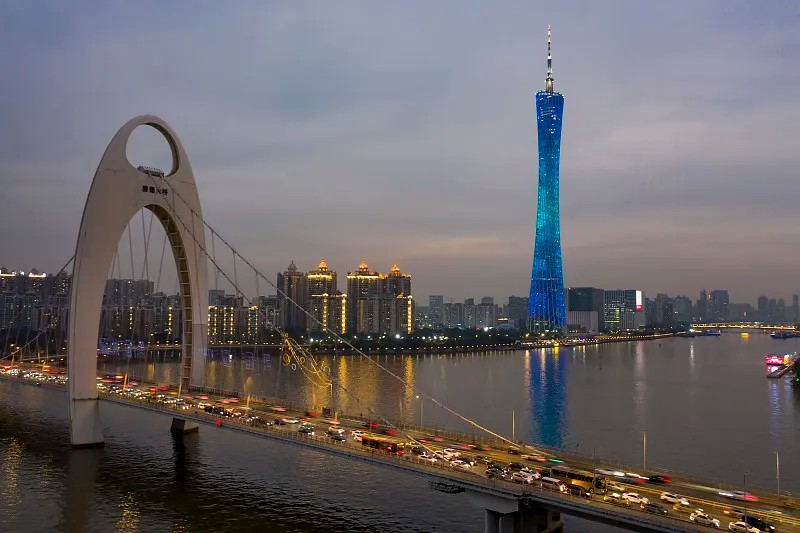Canton: (526, 24, 567, 332)
